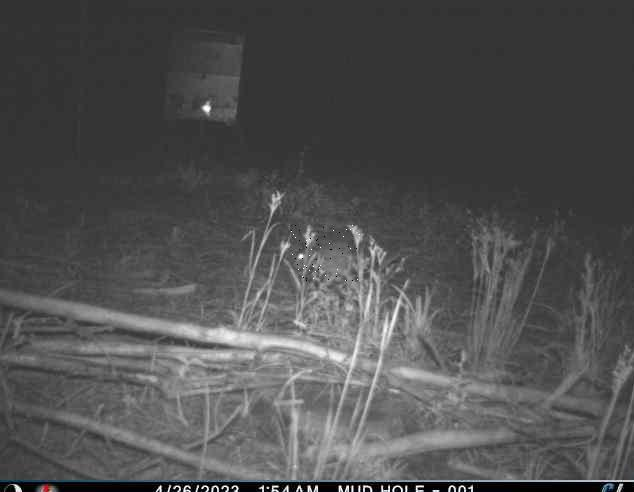Rabbit: (291, 225, 362, 282)
